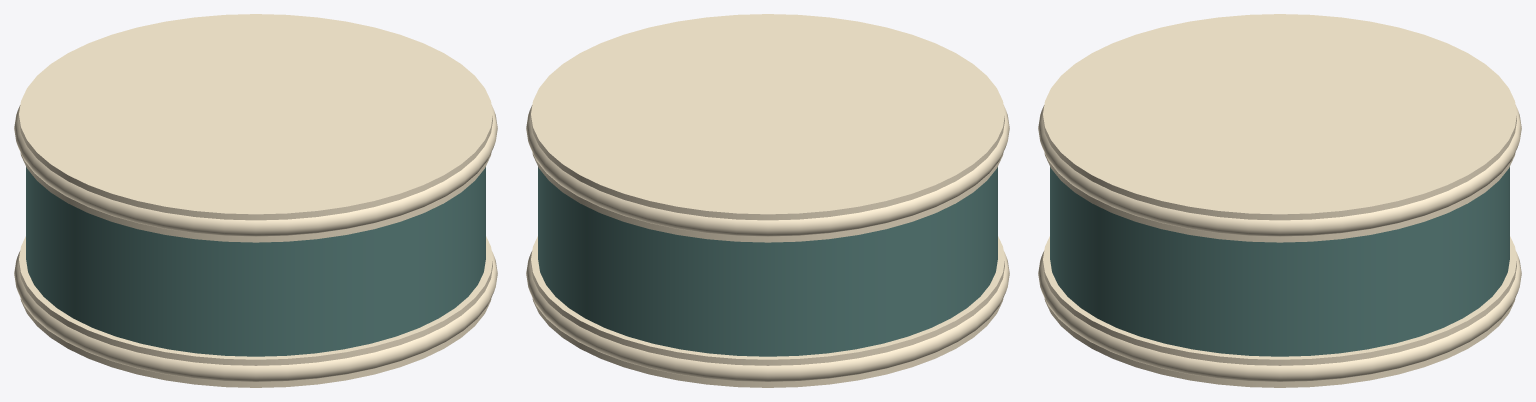
File: drum.glb
The picture shows the model from 3 angles, left to right: view 1: azimuth 30°, elevation 25°; view 2: azimuth 150°, elevation 25°; view 3: azimuth 270°, elevation 25°; orthographic projection.
Parts seen in each view (by area): view 1: Drum_head, Drum_body, Drum_bottom, Drum_lower_soft_rim, Drum_upper_soft_rim; view 2: Drum_head, Drum_body, Drum_bottom, Drum_lower_soft_rim, Drum_upper_soft_rim; view 3: Drum_head, Drum_body, Drum_bottom, Drum_lower_soft_rim, Drum_upper_soft_rim.
Part boxes in pixels (x1=…): Drum_head: x1=19, y1=14, x2=492, y2=242; Drum_body: x1=26, y1=167, x2=485, y2=356; Drum_bottom: x1=19, y1=236, x2=492, y2=387; Drum_lower_soft_rim: x1=14, y1=251, x2=497, y2=381; Drum_upper_soft_rim: x1=14, y1=105, x2=497, y2=236; Drum_head: x1=531, y1=14, x2=1004, y2=242; Drum_body: x1=538, y1=167, x2=997, y2=356; Drum_bottom: x1=531, y1=236, x2=1004, y2=387; Drum_lower_soft_rim: x1=526, y1=251, x2=1009, y2=381; Drum_upper_soft_rim: x1=526, y1=105, x2=1009, y2=236; Drum_head: x1=1043, y1=14, x2=1516, y2=242; Drum_body: x1=1050, y1=167, x2=1509, y2=356; Drum_bottom: x1=1043, y1=236, x2=1516, y2=387; Drum_lower_soft_rim: x1=1038, y1=251, x2=1521, y2=381; Drum_upper_soft_rim: x1=1038, y1=105, x2=1521, y2=236.
Size of the model in its own units: 1.01 by 0.4 by 1.01.
